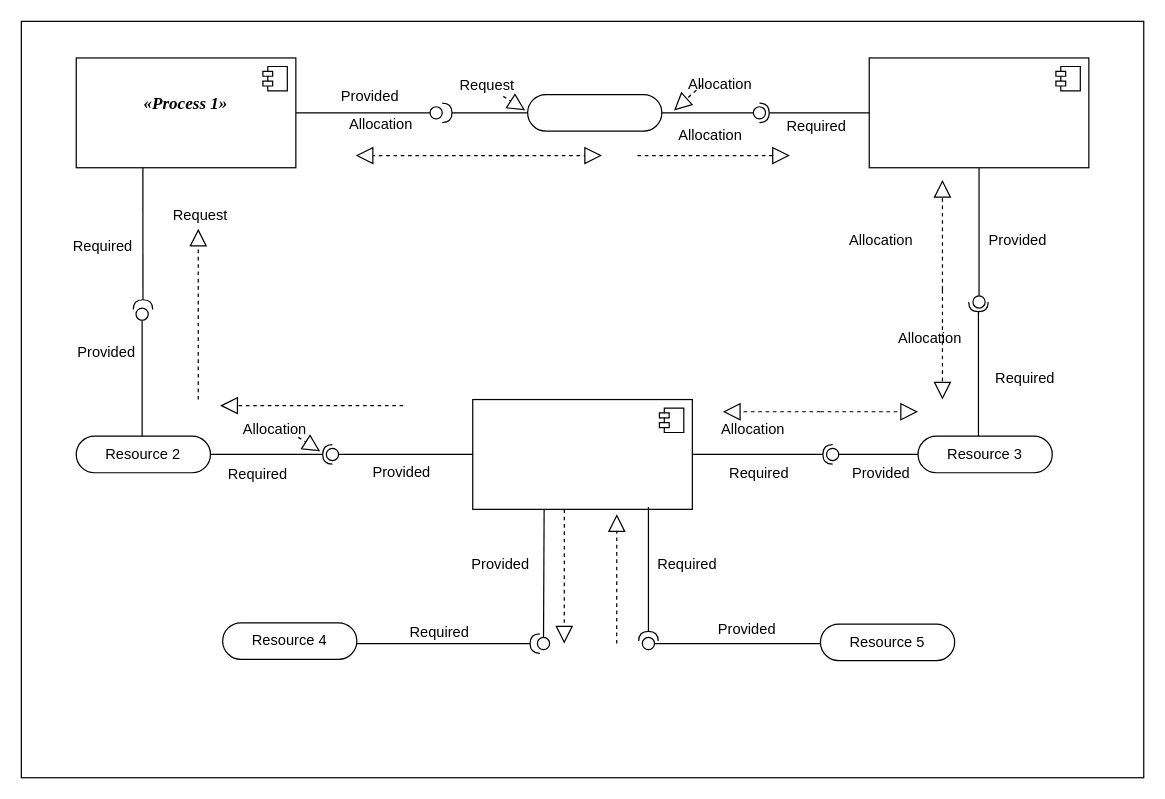
Image size: 1165x799. Some labels were removed from this diagram. The shapes that lost their labels are listed below. From the top down, each one's box as (x1, y1, x2, y2) in pixels, then its label:
(526, 93, 662, 131): Resource 1
(868, 57, 1089, 168): «Process 2»
(472, 398, 692, 509): « Process 3 »
